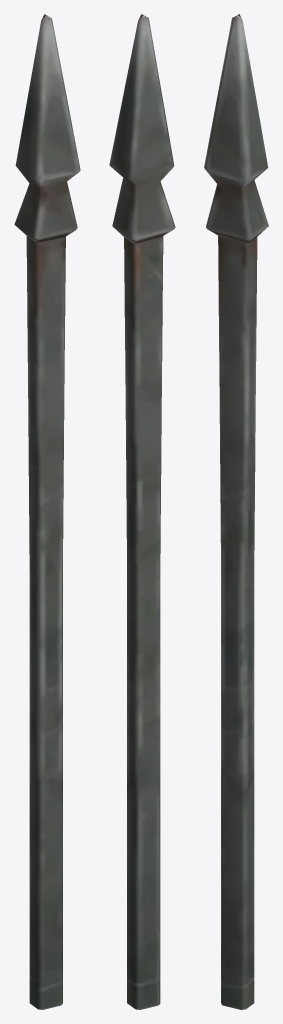
The picture shows the model from 3 angles, left to right: view 1: azimuth 30°, elevation 25°; view 2: azimuth 210°, elevation 25°; view 3: azimuth 330°, elevation 25°; orthographic projection.
Visible parts, largest first — view 1: SM_Iron_Fence_Post_01v1_LOD0; view 2: SM_Iron_Fence_Post_01v1_LOD0; view 3: SM_Iron_Fence_Post_01v1_LOD0.
Part boxes in pixels (x1=…): SM_Iron_Fence_Post_01v1_LOD0: x1=14, y1=14, x2=80, y2=1009; SM_Iron_Fence_Post_01v1_LOD0: x1=109, y1=14, x2=175, y2=1009; SM_Iron_Fence_Post_01v1_LOD0: x1=204, y1=14, x2=268, y2=1009.
Bounding box in the file's own units: 0.0902 × 1.84 × 0.0809.
Materials: 1 (1 with a texture image).
